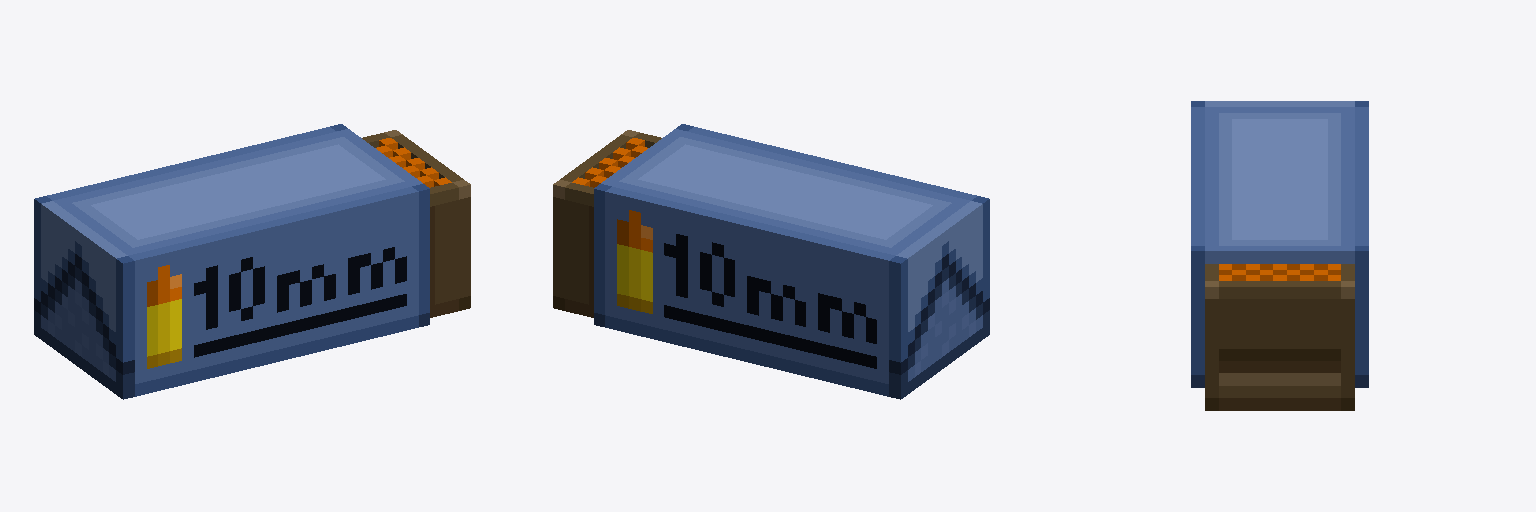
The picture shows the model from 3 angles: view 1: azimuth 30°, elevation 25°; view 2: azimuth 150°, elevation 25°; view 3: azimuth 270°, elevation 25°; orthographic projection.
Parts seen in each view (by area): view 1: object 1; view 2: object 1; view 3: object 1.
Part boxes in pixels (left/top/right/bottom): object 1: left=34, top=124, right=470, bottom=399; object 1: left=553, top=124, right=989, bottom=399; object 1: left=1191, top=101, right=1368, bottom=410.
Size of the model in its own units: 3 by 1.1 by 1.3.
Materials: 1 (1 with a texture image).